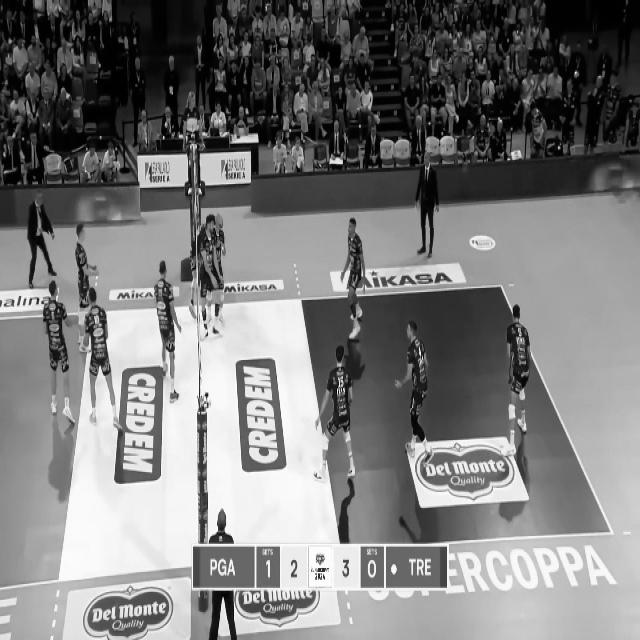volleyball court: (0, 283, 614, 585)
